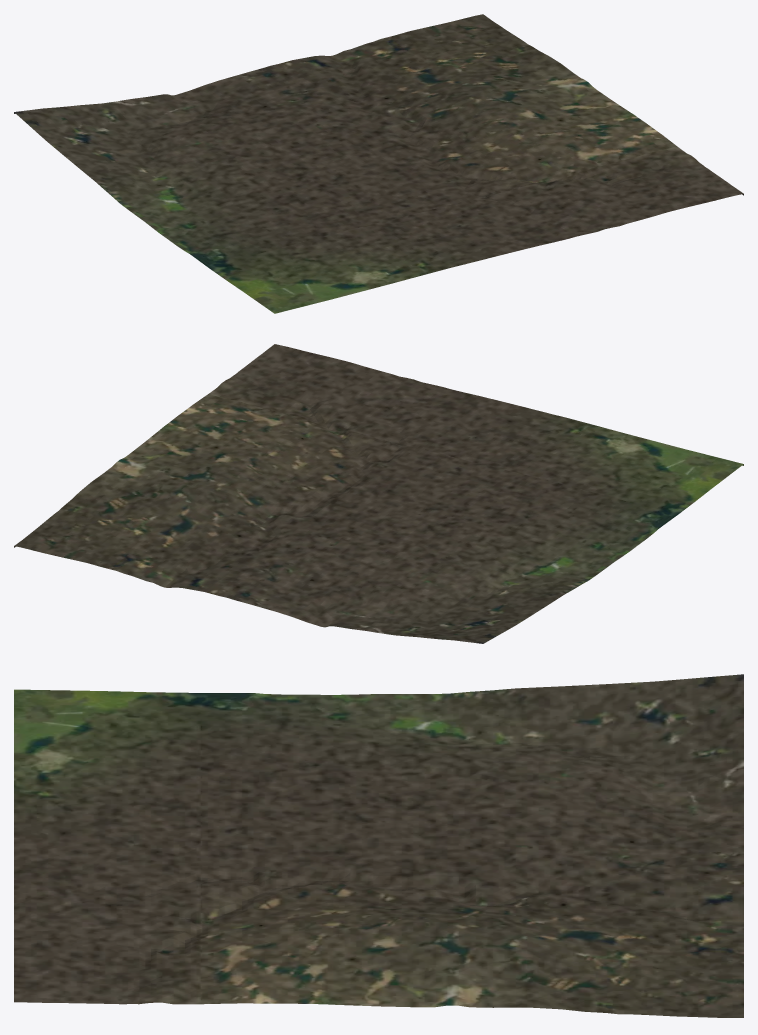
3 renders of one model, top to bottom at view 1: azimuth 30°, elevation 25°; view 2: azimuth 150°, elevation 25°; view 3: azimuth 270°, elevation 25°, orthographic. The views are drawn at different scales.
Size of the model in its own units: 250 by 12.4 by 241.
Materials: 1 (1 with a texture image).
